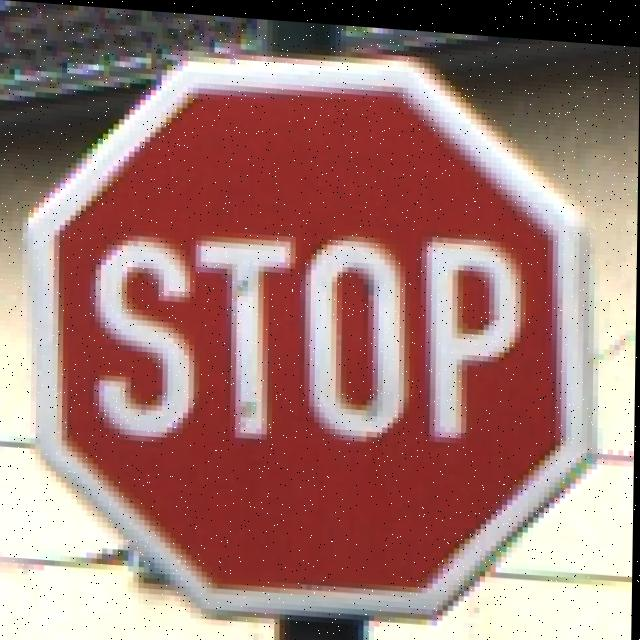stop: (44, 29, 565, 613)
